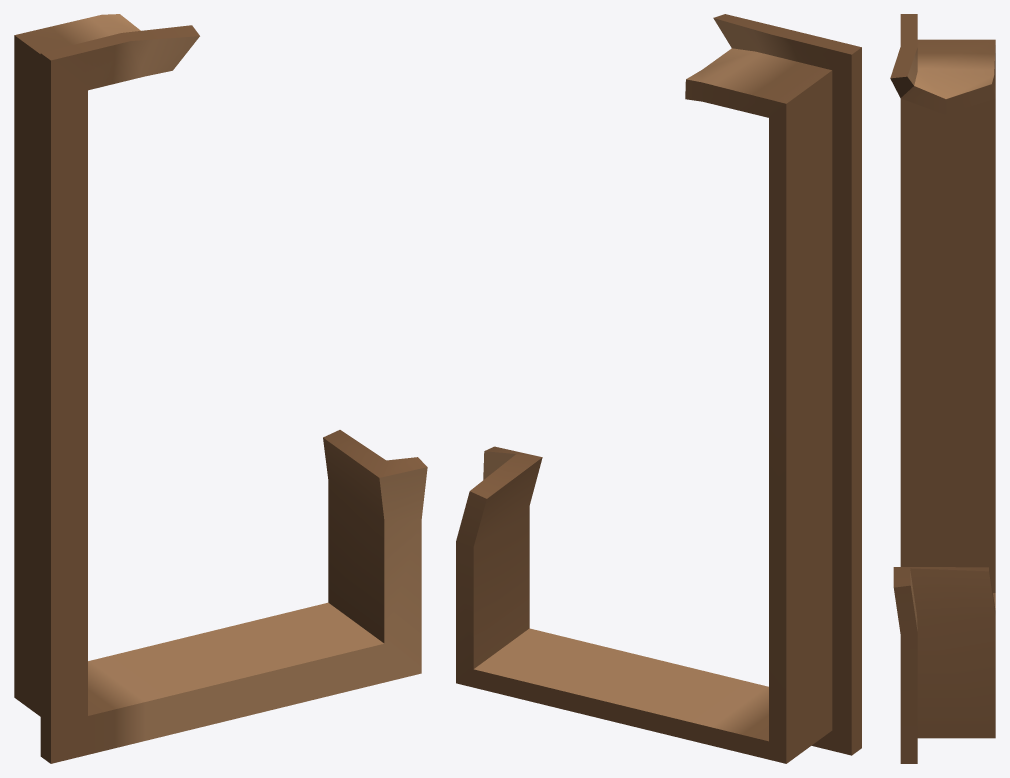
The model's file is DBK_WinSmall_Trim_A_90.fbx.
3 views of the same model, side by side, from view 1: azimuth 30°, elevation 25°; view 2: azimuth 150°, elevation 25°; view 3: azimuth 270°, elevation 25° (orthographic). The views are drawn at different scales.
Visible parts, largest first — view 1: DBK_WinSmall_Trim_A_90; view 2: DBK_WinSmall_Trim_A_90; view 3: DBK_WinSmall_Trim_A_90.
Part boxes in pixels (<box>): DBK_WinSmall_Trim_A_90: <box>14,14,427,763</box>; DBK_WinSmall_Trim_A_90: <box>456,14,861,763</box>; DBK_WinSmall_Trim_A_90: <box>890,14,995,763</box>.
Bounding box in the file's own units: 74.25 × 134 × 21.45.
